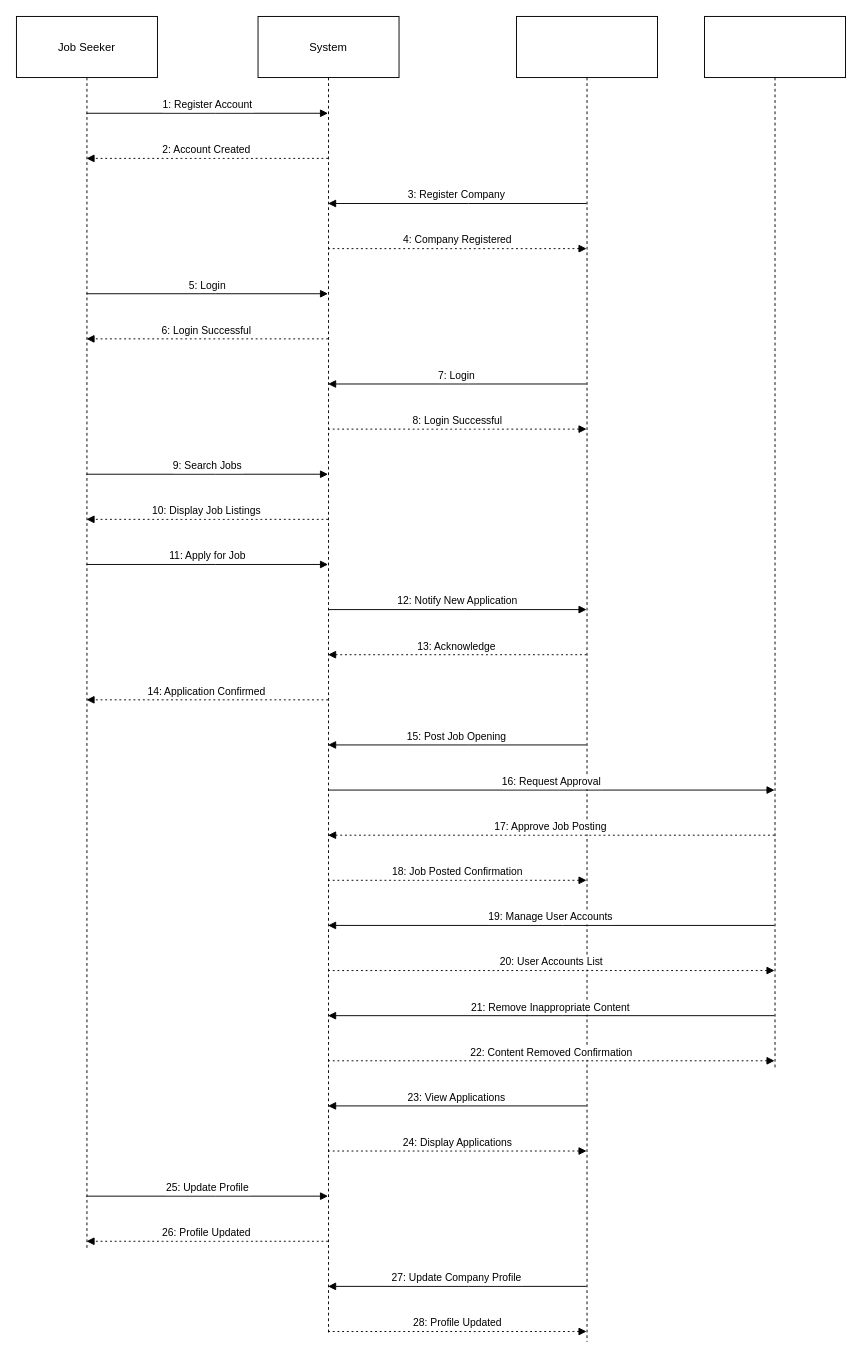
The diagram is 862 pixels wide and 1358 high, and some of its shapes have lost their labels. The box of each missing label's shape, as (x1, y1, x2, y2) in pixels:
Administrator: (704, 16, 846, 1069)
Employer: (516, 16, 658, 1342)
